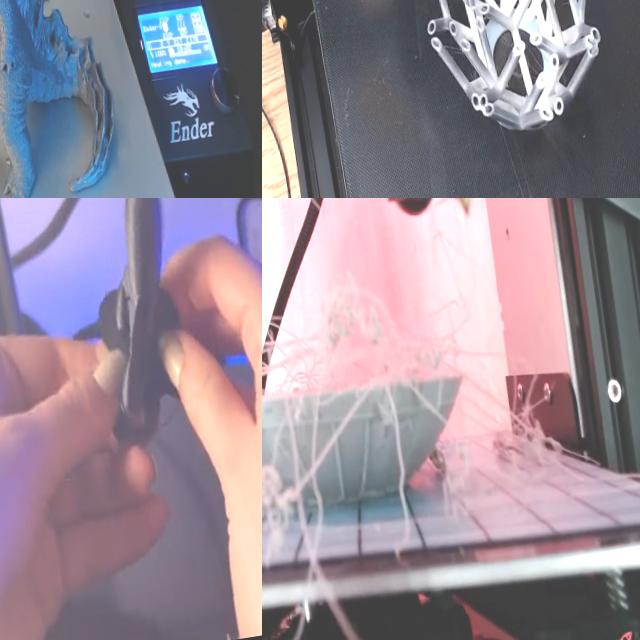spaghetti: (262, 234, 584, 640)
